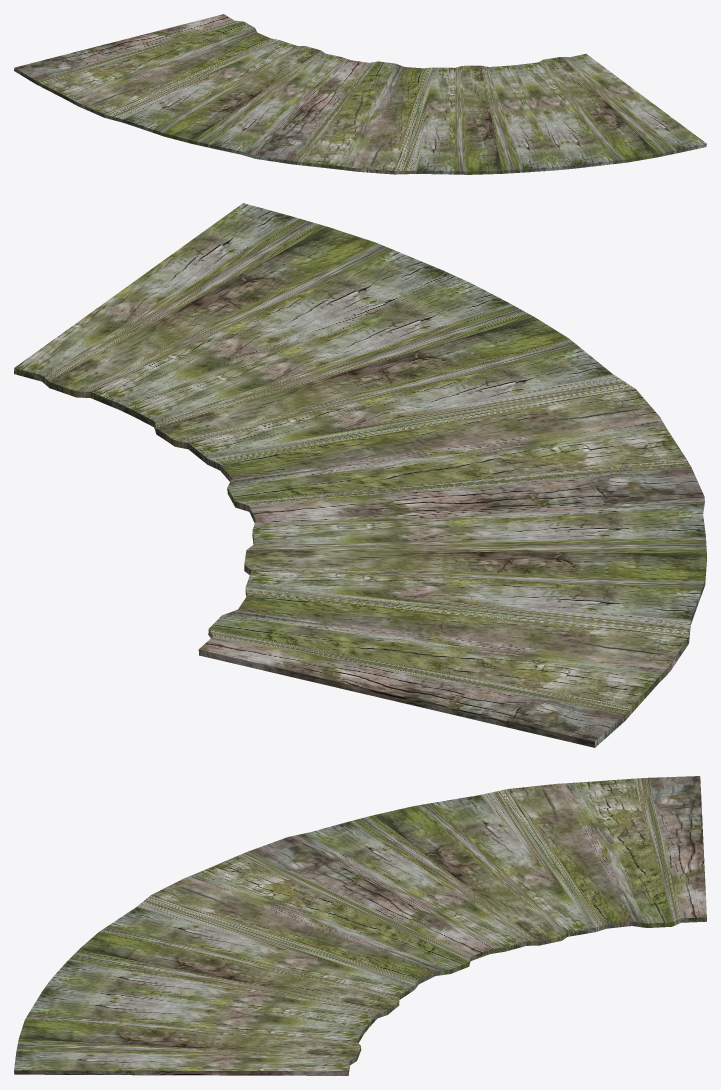
File: RAMP-009.fbx
The picture shows the model from 3 angles, top to bottom: view 1: azimuth 30°, elevation 25°; view 2: azimuth 150°, elevation 25°; view 3: azimuth 270°, elevation 25°; orthographic projection. The views are drawn at different scales.
Visible parts, largest first — view 1: ramp_009__1_; view 2: ramp_009__1_; view 3: ramp_009__1_.
Part boxes in pixels (x1,y1,x2,y2): ramp_009__1_: [14, 14, 706, 174]; ramp_009__1_: [14, 203, 706, 747]; ramp_009__1_: [14, 776, 706, 1075].
Size of the model in its own units: 417 by 3 by 413.
